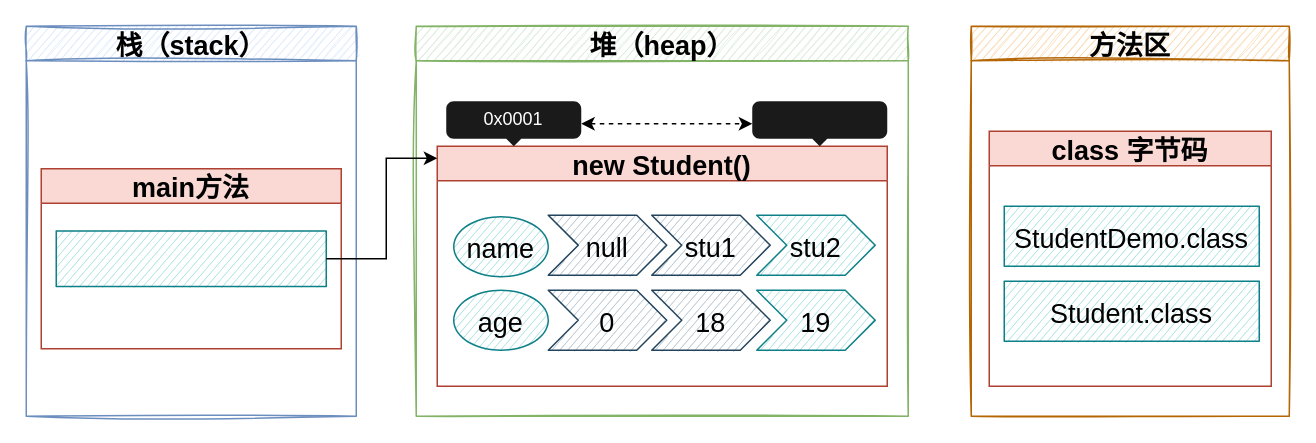
Image size: 1316x443. Some labels were removed from this diagram. The shapes that lost their labels are listed below. From the top down, each one's centre as x and y in pixels, then its label:
At (819,123): "this".
At (190,258): "Student stu = 0x0001;".
